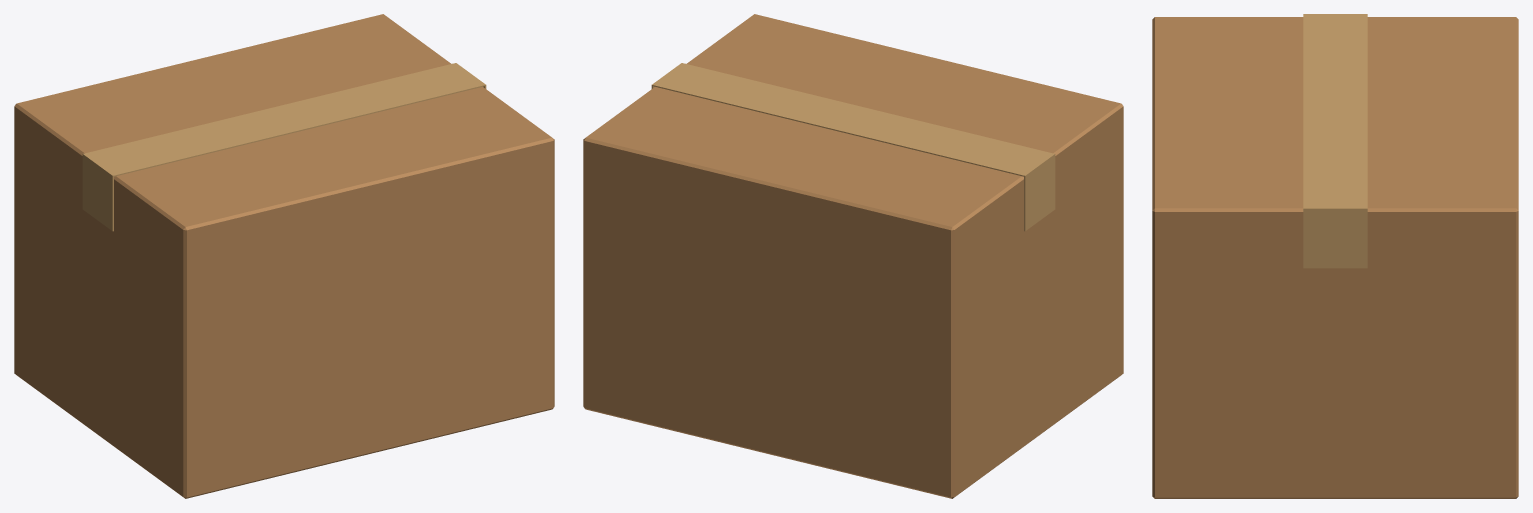
File: box_cardboard.glb
The picture shows the model from 3 angles, left to right: view 1: azimuth 30°, elevation 25°; view 2: azimuth 150°, elevation 25°; view 3: azimuth 270°, elevation 25°; orthographic projection. The views are drawn at different scales.
Parts seen in each view (by area): view 1: box_cardboard; view 2: box_cardboard; view 3: box_cardboard.
Boxes of the visible parts, x1=… form: box_cardboard: x1=14, y1=14, x2=554, y2=498; box_cardboard: x1=583, y1=14, x2=1123, y2=498; box_cardboard: x1=1152, y1=14, x2=1518, y2=498.
Size of the model in its own units: 0.503 by 0.3515 by 0.4.
